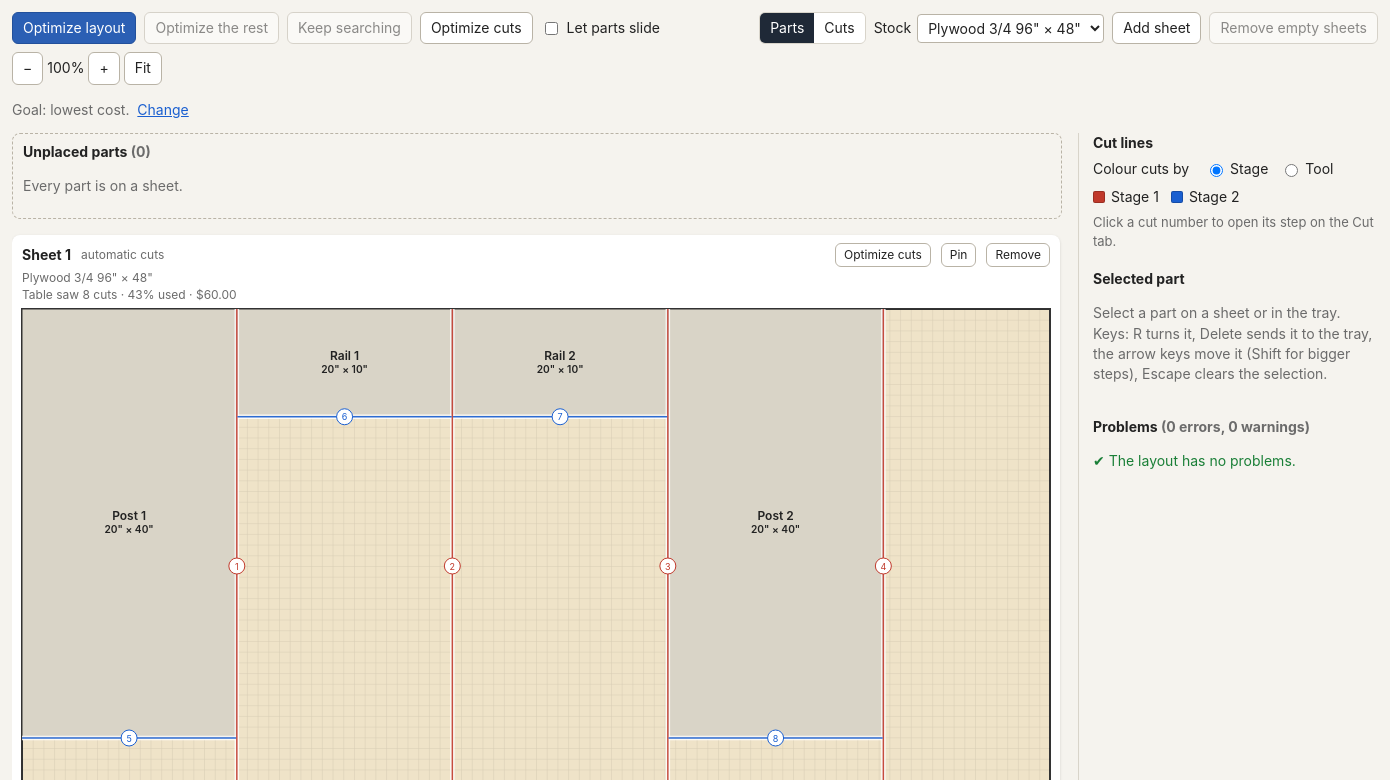
Scenario: Optimize cuts › searches one sheet from its header
Click the button with aria-label "Optimize the cuts of sheet 1".
click(883, 255)  # box [835, 243, 931, 267]
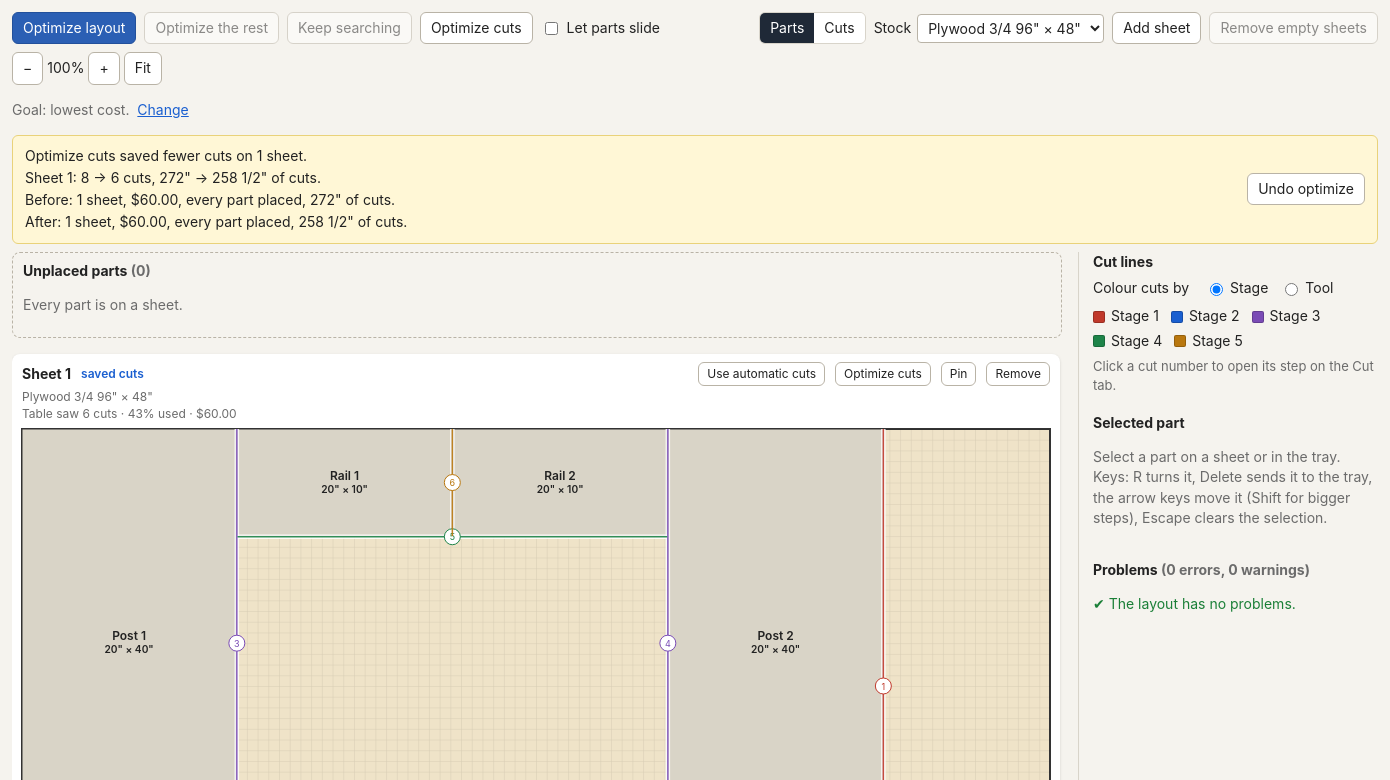
Expected: the text "saved cuts" is shown, [81, 366, 144, 381]
